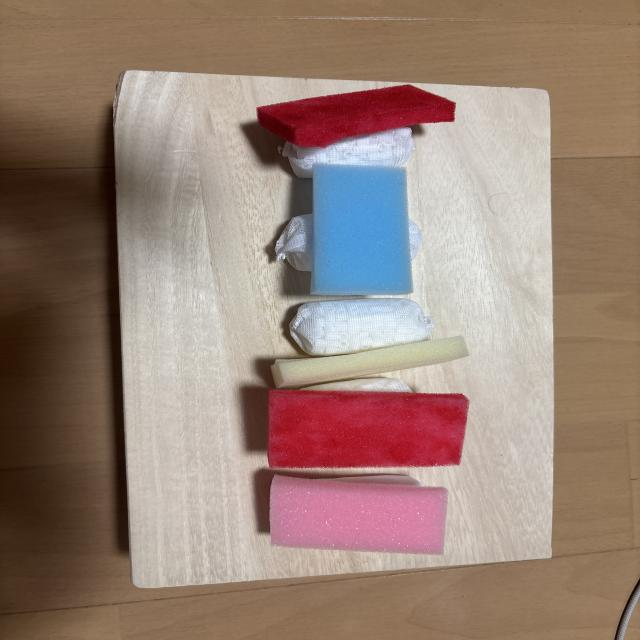NG: (275, 164, 421, 295), (257, 85, 456, 178), (272, 298, 468, 388)
maguro: (268, 378, 469, 468)
tai: (270, 475, 447, 554)
